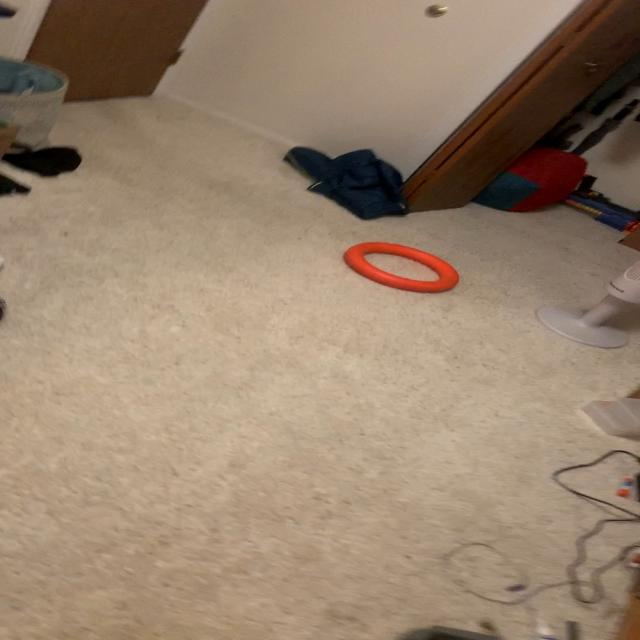notes: (343, 239, 457, 291)
